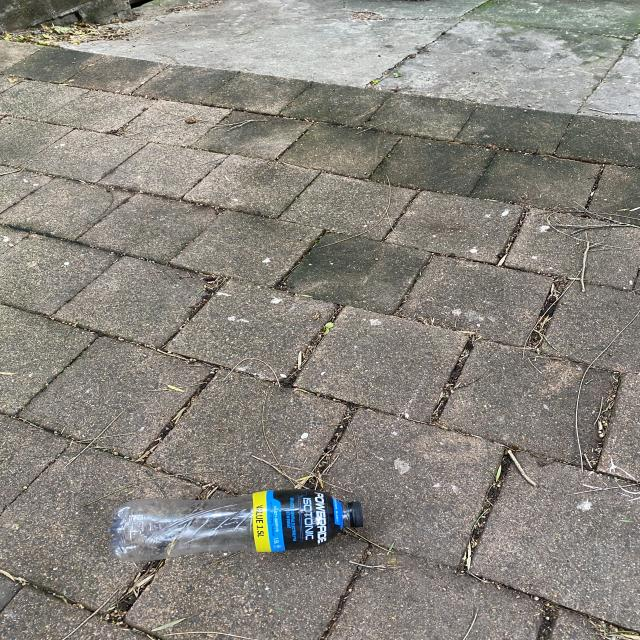bottle: (104, 484, 372, 567)
